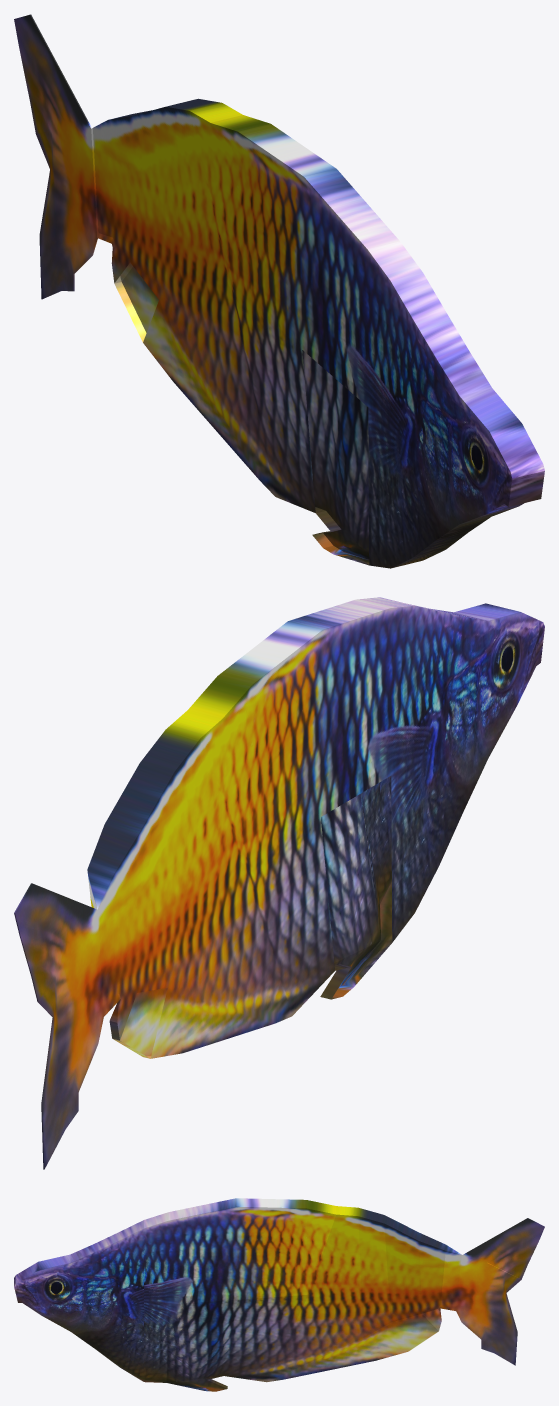
File: bosemansRainbowFish.glb
The picture shows the model from 3 angles, top to bottom: view 1: azimuth 30°, elevation 25°; view 2: azimuth 150°, elevation 25°; view 3: azimuth 270°, elevation 25°; orthographic projection. The views are drawn at different scales.
Parts seen in each view (by area): view 1: Plane; view 2: Plane; view 3: Plane.
Part boxes in pixels (box(x1,y1,x2,y2)): Plane: box(14, 14, 544, 568); Plane: box(14, 597, 544, 1169); Plane: box(14, 1198, 544, 1391).
Bounding box in the file's own units: 0.1551 × 1.56 × 3.94.
1 material, 1 textured.
